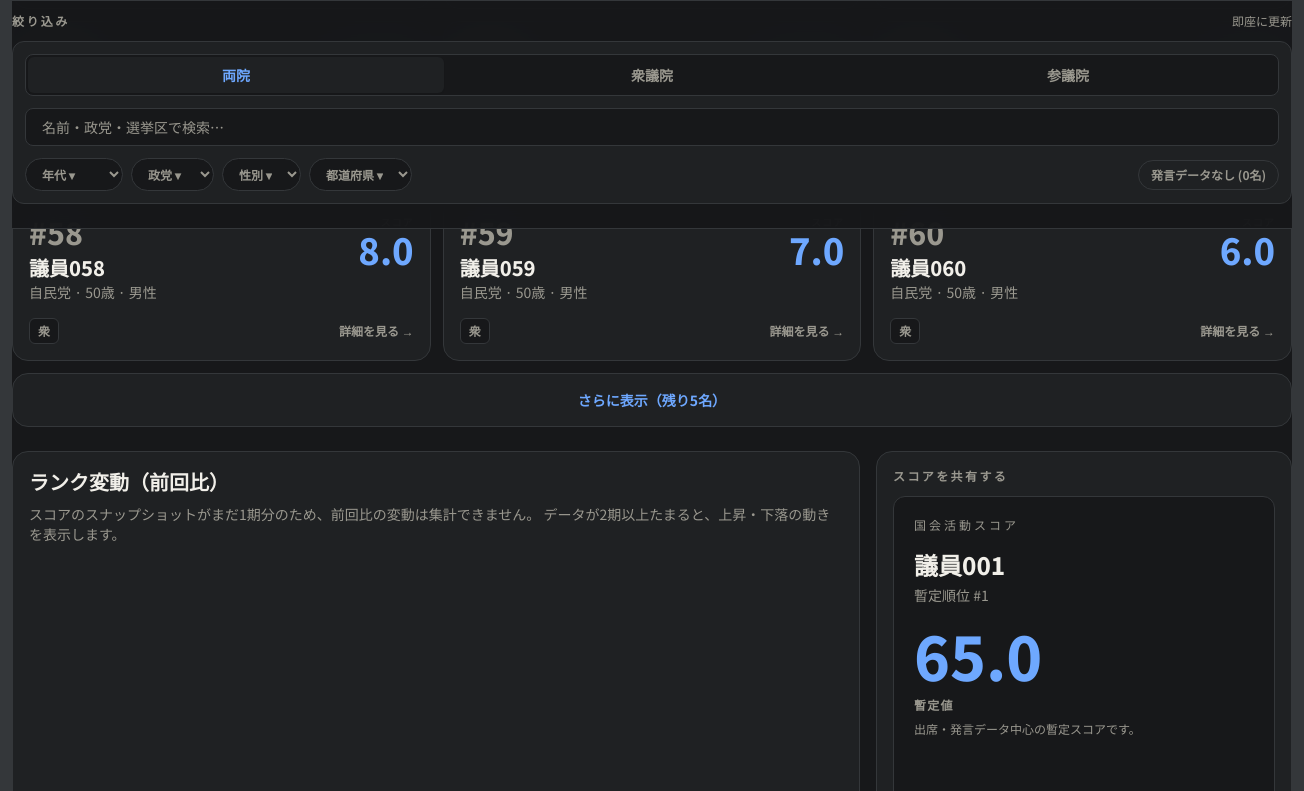
Scenario: RankingFeed › 段階表示（limit 未指定・全件ページ） › フィルタ変更で表示件数が60にリセットされる
The image size is (1304, 791).
(page scrolled)
Click the button "さらに表示（残り5名）": click(652, 400) [12,373,1292,427]
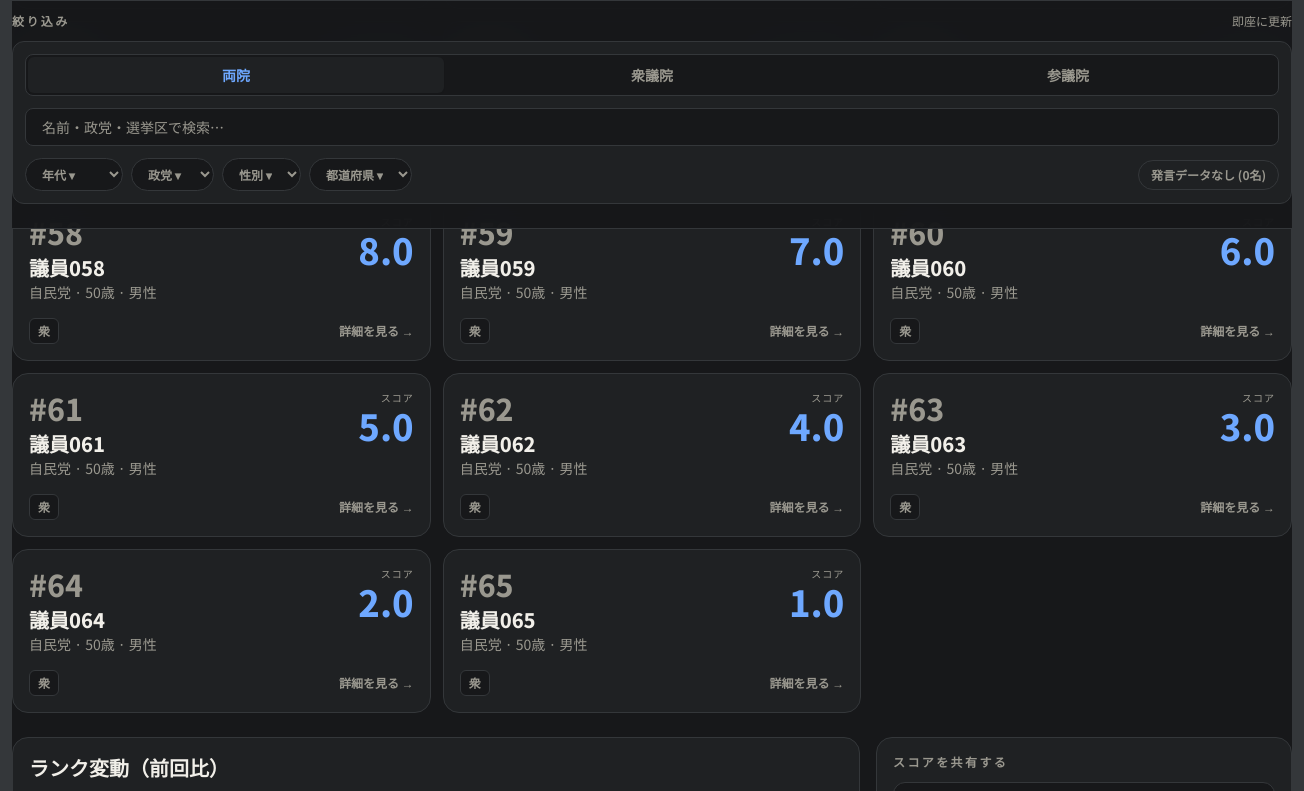
Expected: the text "議員065" is shown, [460,605,536,634]
Select "無所属" in the dropdown named "党派で絞り込む": (172, 174) [131,158,214,191]
(page scrolled)
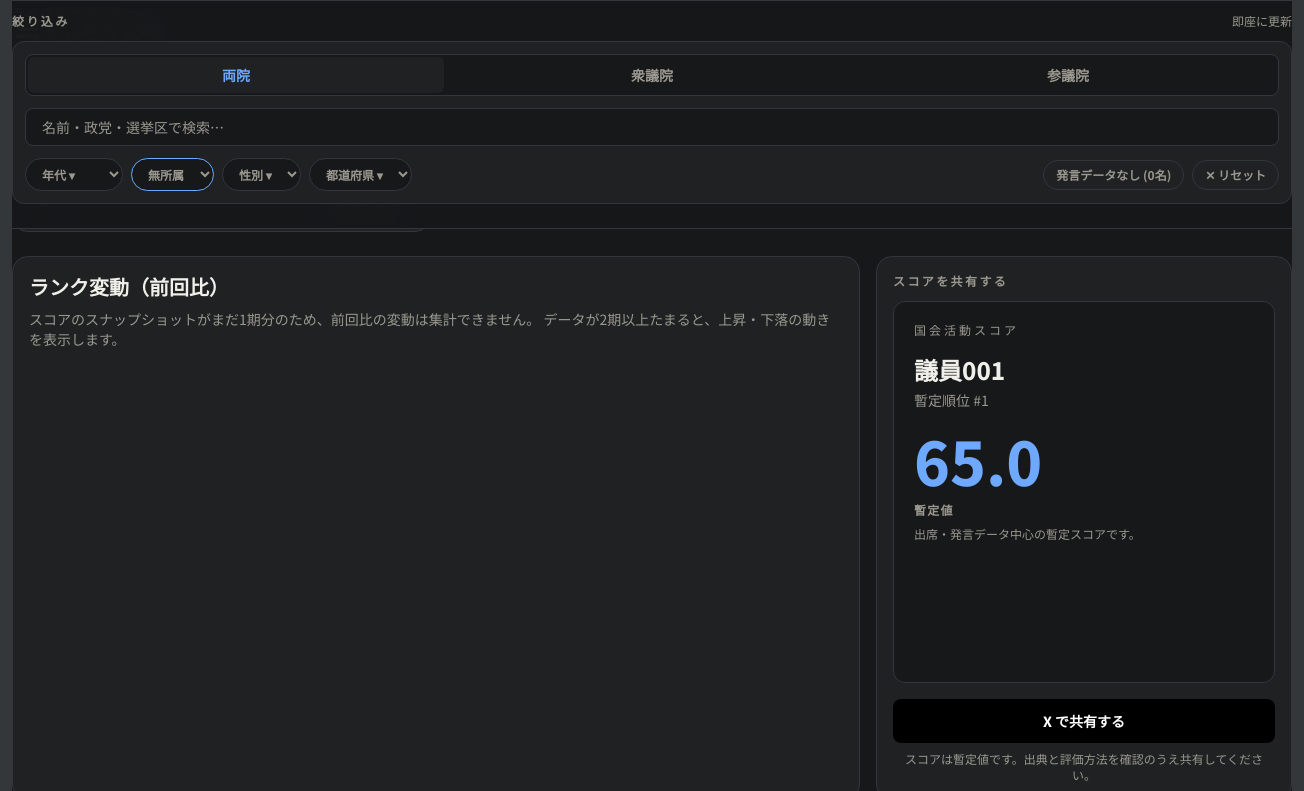
Expected: the text "議員001" below "ライブリーダーボード" is shown, [29,124,105,153]
Expected: the link "議員065" is gone
Select "政党 ▾" in the dropdown named "党派で絞り込む": (172, 174) [131,158,214,191]
(page scrolled)
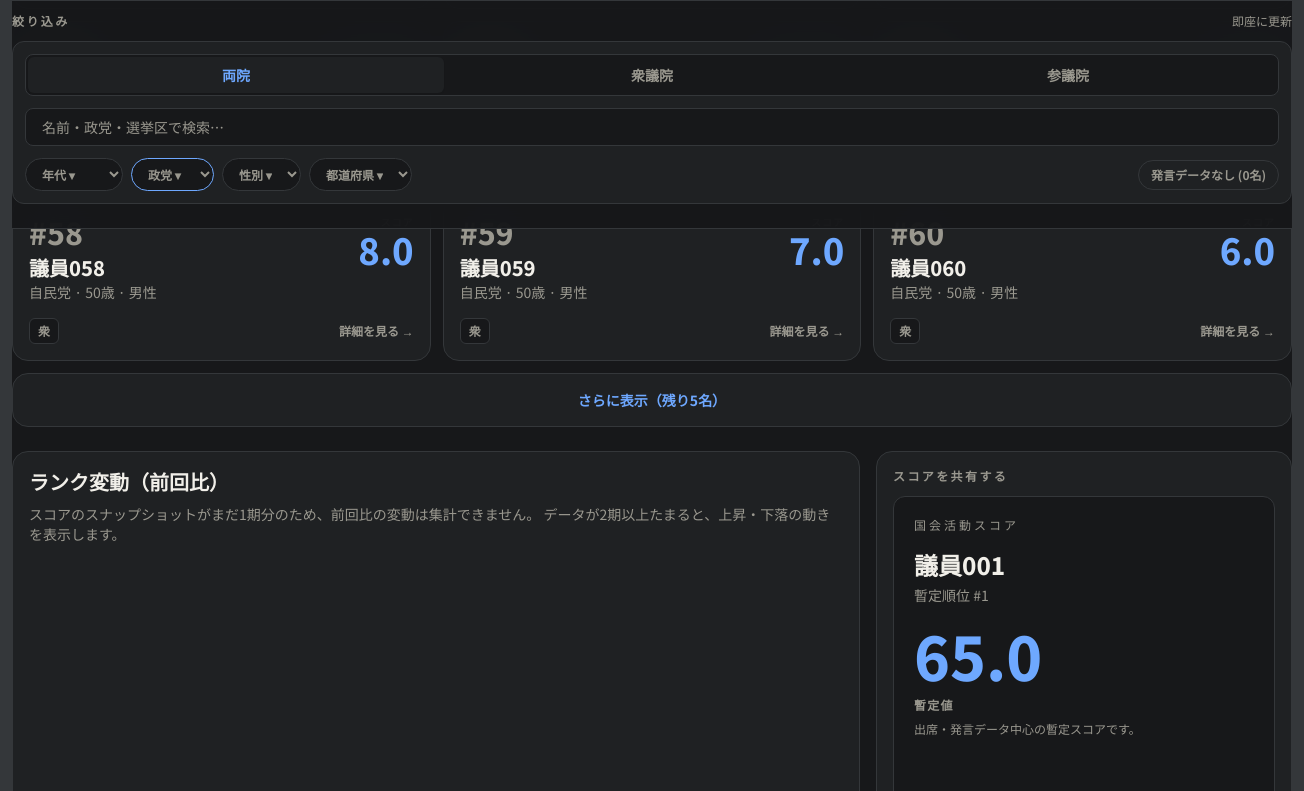
Expected: the link "議員065" is not shown
Expected: the text "議員060" is shown, [890,253,966,282]
Expected: the button "さらに表示（残り5名）" is shown, [12,373,1292,427]
